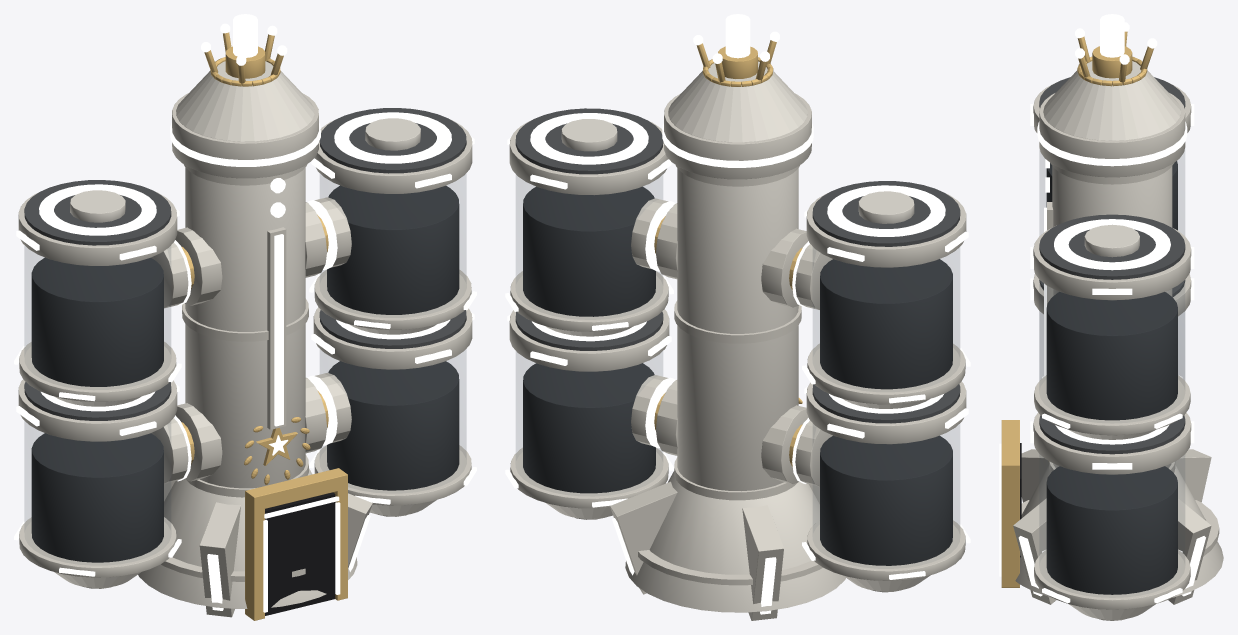
File: Vat_Graduate_T3.glb
The picture shows the model from 3 angles, left to right: view 1: azimuth 30°, elevation 25°; view 2: azimuth 150°, elevation 25°; view 3: azimuth 270°, elevation 25°; orthographic projection.
Parts seen in each view (by area): view 1: Vat_Graduate_T3; view 2: Vat_Graduate_T3; view 3: Vat_Graduate_T3.
Part boxes in pixels (bbox=[...]): Vat_Graduate_T3: bbox=[14, 14, 476, 620]; Vat_Graduate_T3: bbox=[505, 14, 970, 620]; Vat_Graduate_T3: bbox=[999, 14, 1223, 620].
Bounding box in the file's own units: 6.53 × 7.91 × 2.92.
